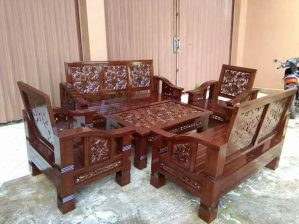Carving Chair: (153, 101, 298, 207), (17, 84, 132, 197)
